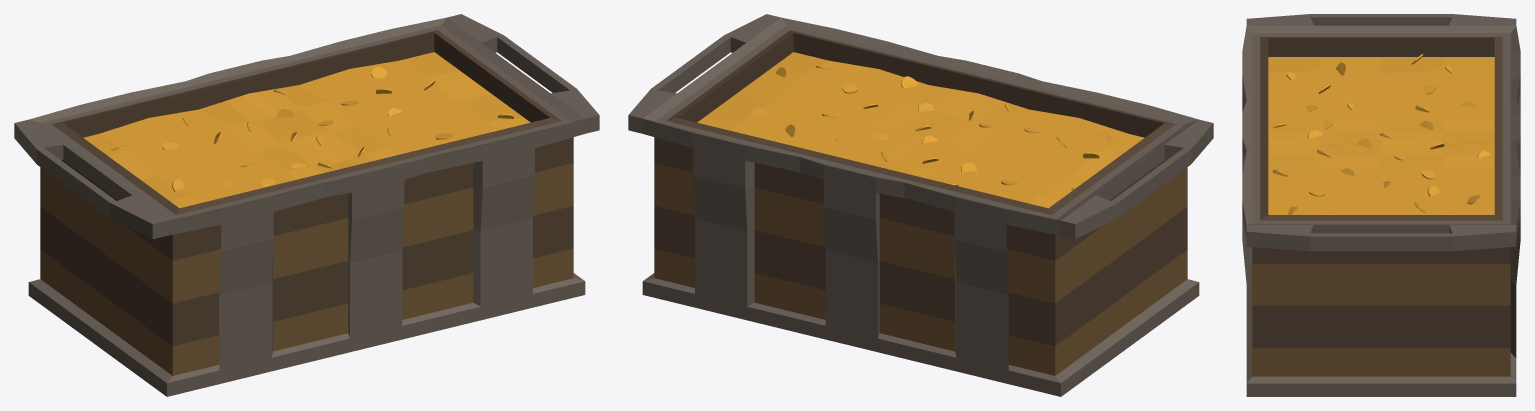
Rendered from TreasureCrate.fbx.
3 views of the same model, side by side, from view 1: azimuth 30°, elevation 25°; view 2: azimuth 150°, elevation 25°; view 3: azimuth 270°, elevation 25° (orthographic). The views are drawn at different scales.
Parts seen in each view (by area): view 1: TreasureCrate; view 2: TreasureCrate; view 3: TreasureCrate.
Boxes of the visible parts, x1=… form: TreasureCrate: x1=14, y1=14, x2=599, y2=396; TreasureCrate: x1=628, y1=14, x2=1213, y2=396; TreasureCrate: x1=1242, y1=14, x2=1520, y2=396.
Bounding box in the file's own units: 571 × 206 × 302.
